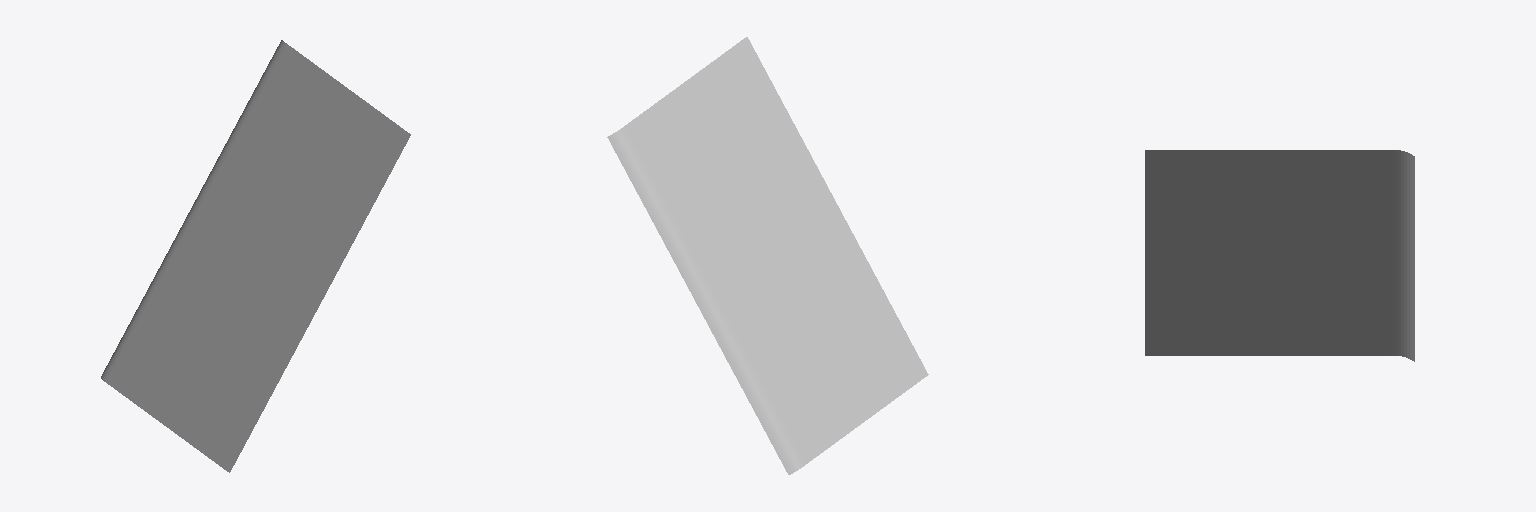
File: Page_9-10_Plane_002.obj
3 views of the same model, side by side, from view 1: azimuth 30°, elevation 25°; view 2: azimuth 150°, elevation 25°; view 3: azimuth 270°, elevation 25° (orthographic).
Visible parts, largest first — view 1: Page_9-10_Plane.002; view 2: Page_9-10_Plane.002; view 3: Page_9-10_Plane.002.
Boxes of the visible parts, <box> form: Page_9-10_Plane.002: <box>101,40,410,472</box>; Page_9-10_Plane.002: <box>607,37,928,474</box>; Page_9-10_Plane.002: <box>1145,150,1414,361</box>.
Size of the model in its own units: 2.27 by 3.46 by 2.83.